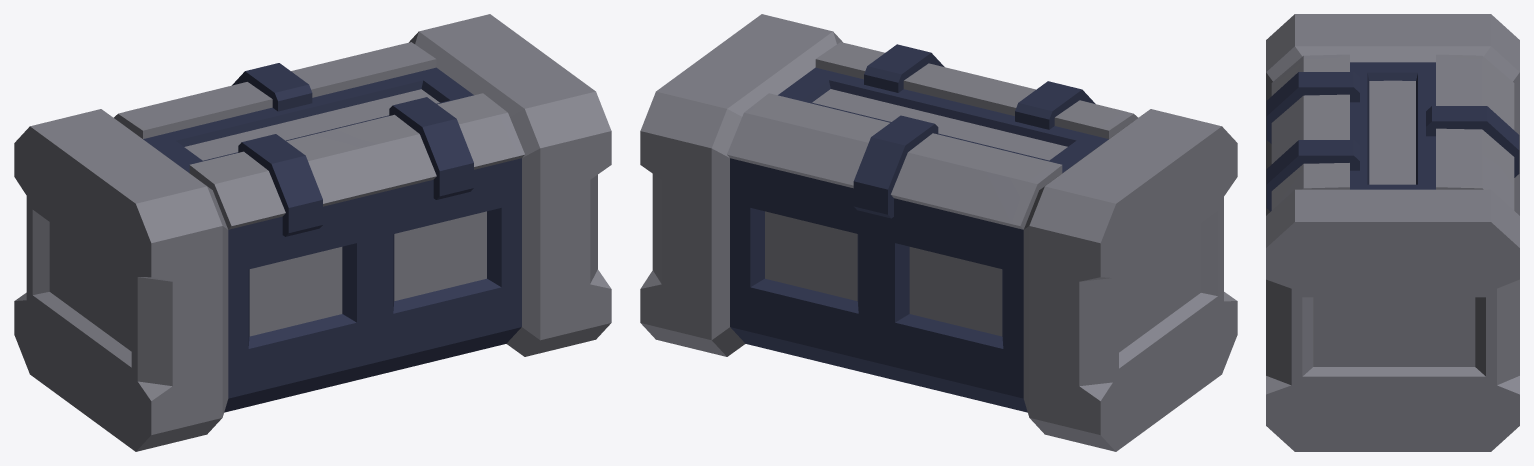
File: Container_Neutral.fbx
3 renders of one model, left to right at view 1: azimuth 30°, elevation 25°; view 2: azimuth 150°, elevation 25°; view 3: azimuth 270°, elevation 25°, orthographic. The views are drawn at different scales.
Parts seen in each view (by area): view 1: Container_Neutral; view 2: Container_Neutral; view 3: Container_Neutral.
Boxes of the visible parts, bbox=[...] form: Container_Neutral: bbox=[14, 14, 611, 451]; Container_Neutral: bbox=[640, 14, 1237, 451]; Container_Neutral: bbox=[1266, 14, 1519, 451].
Bounding box in the file's own units: 797 × 418 × 411.
